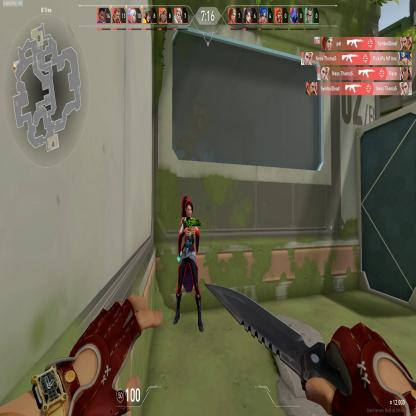enemy: (169, 191, 205, 336)
